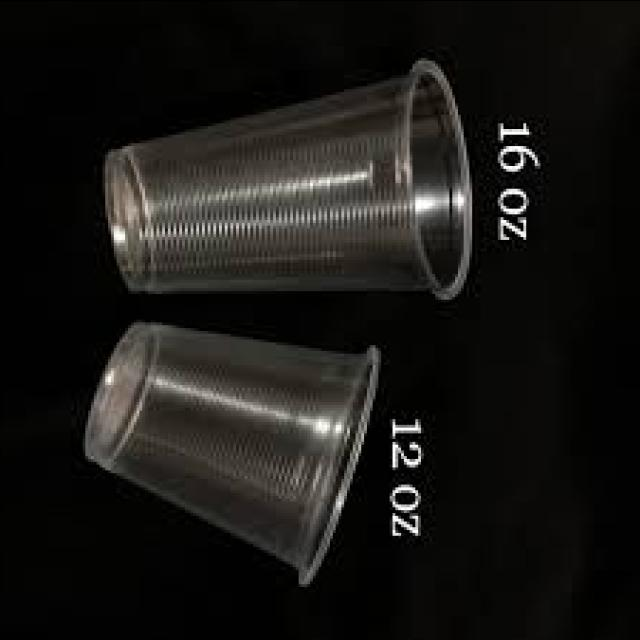plastic: (104, 59, 469, 299), (84, 321, 380, 584)
